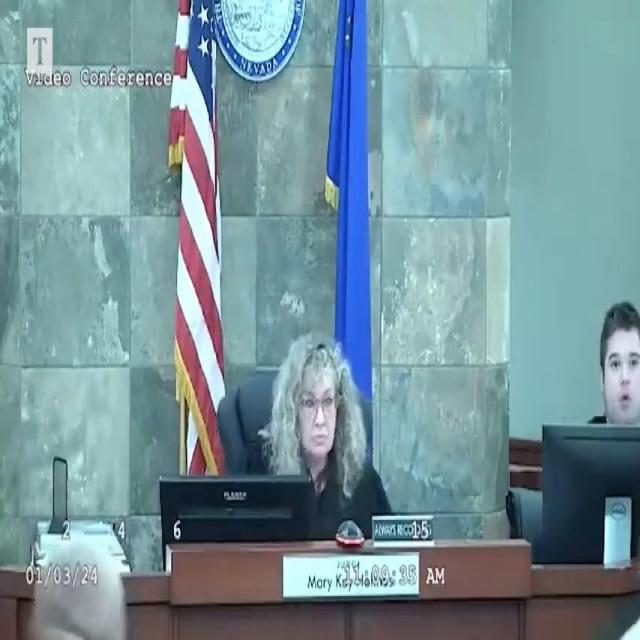non-fight: (253, 307, 371, 534), (583, 285, 640, 431)
